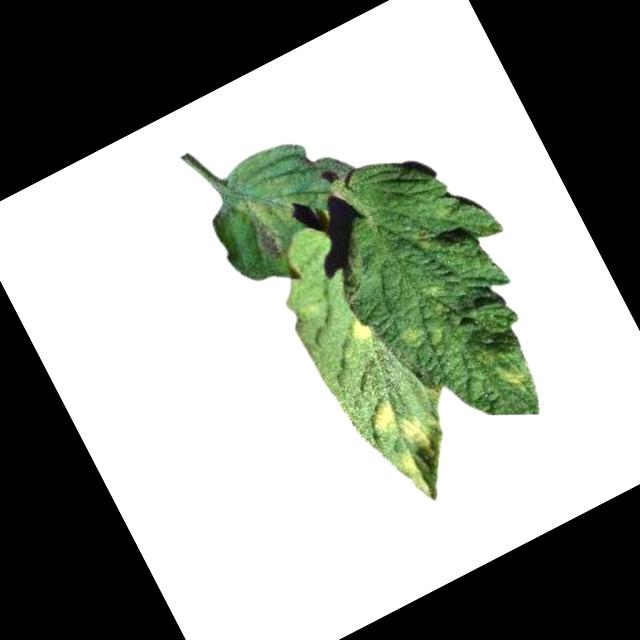Leaf_Mold: (361, 385, 458, 512), (232, 181, 305, 264), (494, 354, 531, 390), (347, 311, 379, 345), (400, 320, 428, 345)
